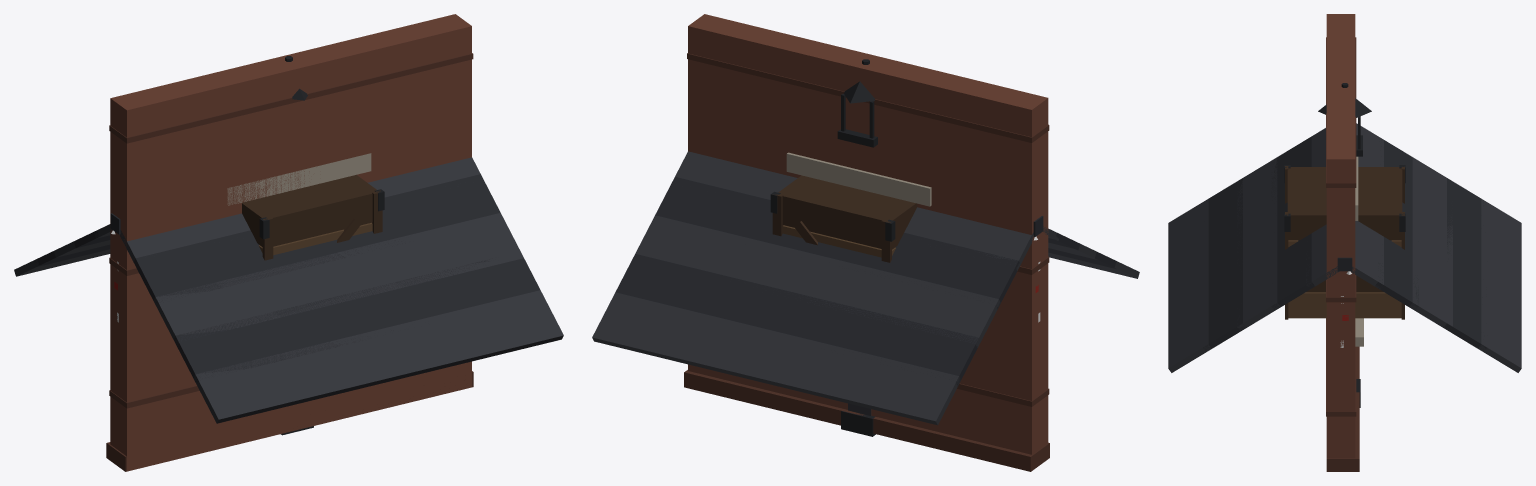
File: StationKit.fbx
The picture shows the model from 3 angles, left to right: view 1: azimuth 30°, elevation 25°; view 2: azimuth 150°, elevation 25°; view 3: azimuth 270°, elevation 25°; orthographic projection. The views are drawn at different scales.
Visible parts, largest first — view 1: WallBrick, RoofSlate, Crate; view 2: WallBrick, RoofSlate, Crate, GasLamp; view 3: RoofSlate, WallBrick, Crate, GasLamp.
Part boxes in pixels (x1,y1,x2,y2): WallBrick: [106, 14, 473, 471]; RoofSlate: [14, 157, 563, 423]; Crate: [242, 175, 384, 260]; WallBrick: [684, 14, 1049, 471]; RoofSlate: [592, 151, 1139, 425]; Crate: [770, 175, 917, 262]; GasLamp: [837, 59, 877, 436]; RoofSlate: [1168, 123, 1521, 372]; WallBrick: [1326, 14, 1363, 471]; Crate: [1284, 165, 1405, 319]; GasLamp: [1318, 83, 1371, 407].
Size of the model in its own units: 12.2 by 12.2 by 12.33.
